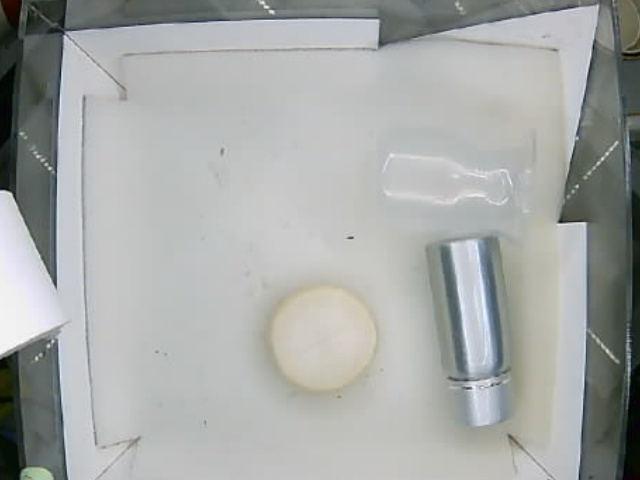Bottle: (423, 235, 517, 426), (379, 132, 531, 224)
Mooli: (269, 286, 377, 393)
